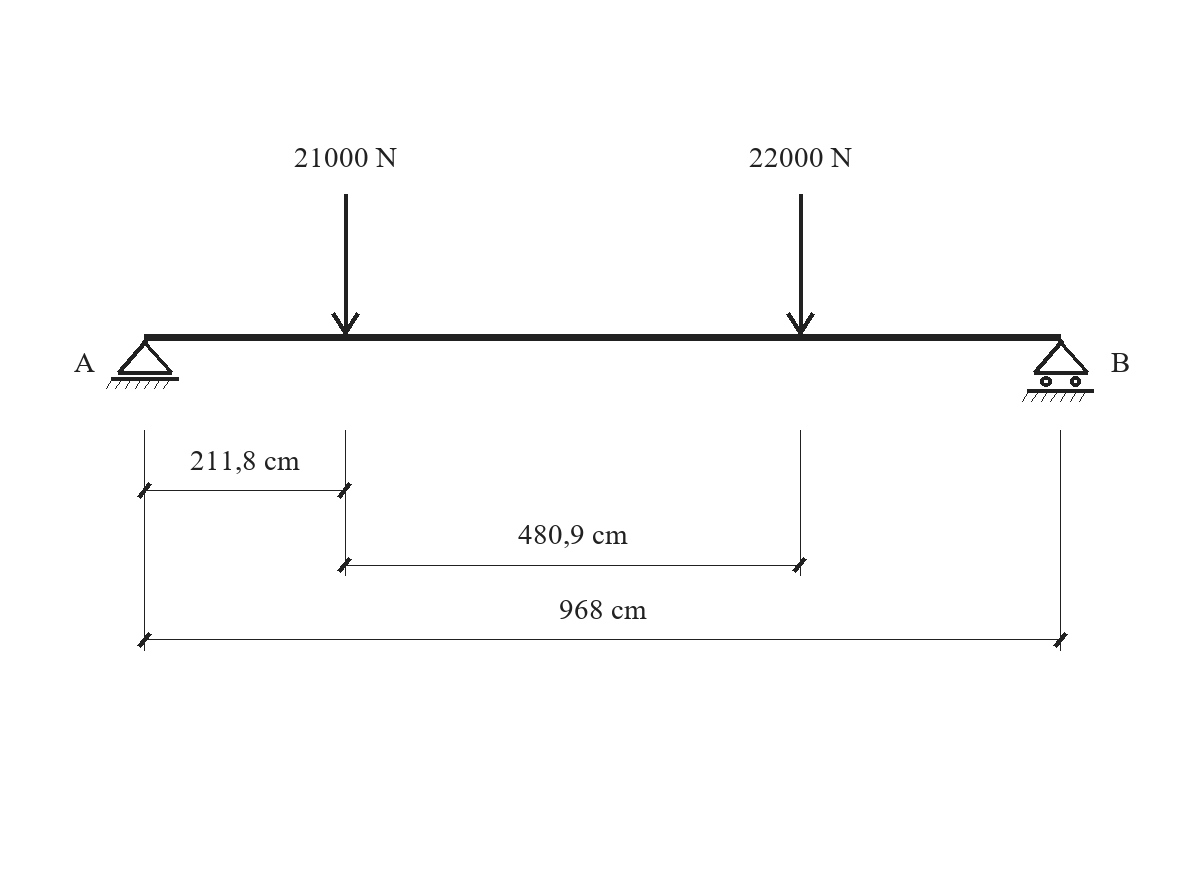pin_support: (106, 339, 179, 389)
point_load: (331, 194, 360, 335), (786, 194, 815, 335)
roller_support: (1022, 339, 1094, 402)
